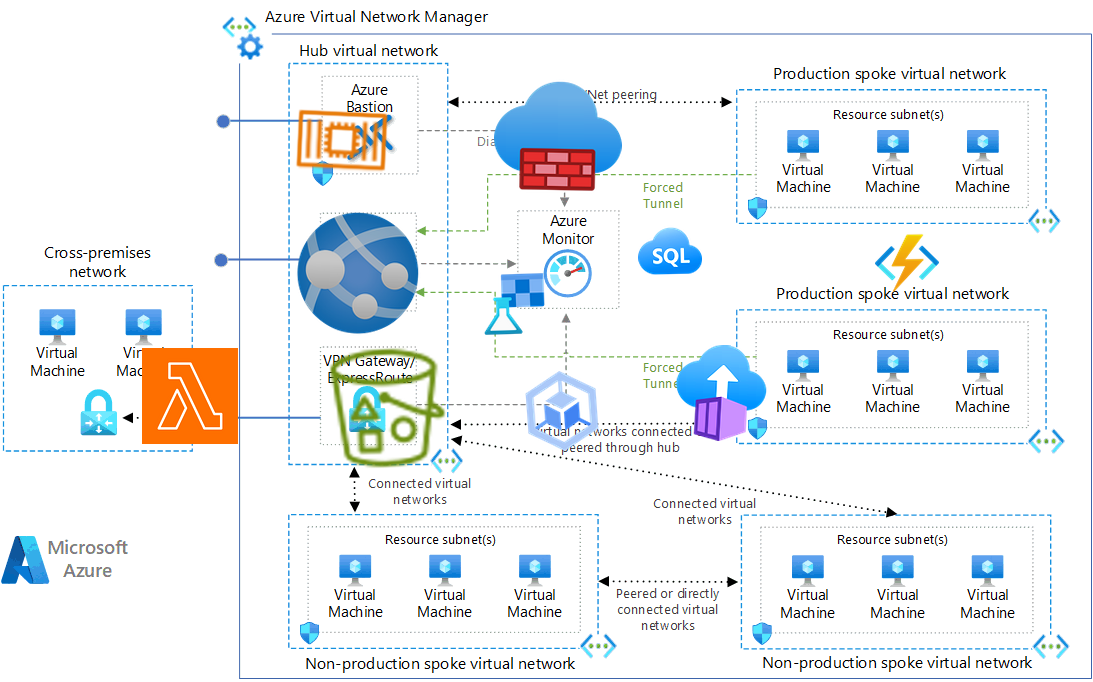aws_elastic_container_service_container_2: (291, 89, 393, 191)
aws_lambda: (141, 347, 239, 445)
aws_simple_storage_service_bucket_with_objects: (321, 341, 455, 475)
azure_app_services: (291, 206, 425, 340)
azure_container_instances: (670, 342, 772, 444)
azure_firewalls: (492, 70, 624, 202)
azure_function_apps: (874, 230, 940, 296)
azure_machine_learning_studio_workspaces: (480, 270, 548, 338)
azure_sql: (637, 219, 703, 285)
gcp_google_kubernetes_engine: (510, 359, 614, 463)
